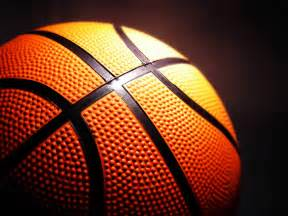basketball: (1, 20, 246, 215)
